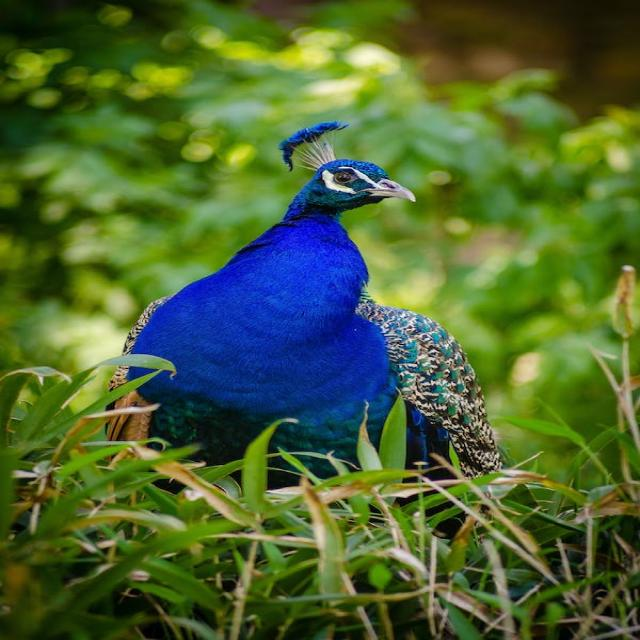peacock: (24, 5, 606, 640)
